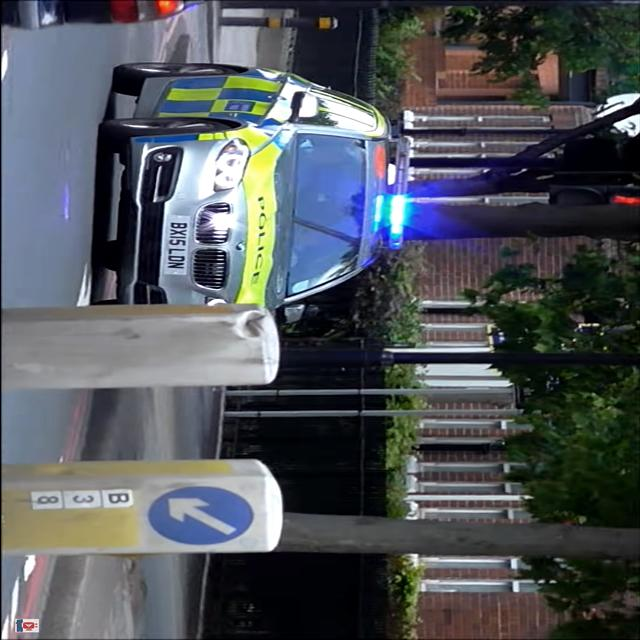emergency-vehicles: (90, 58, 430, 330)
